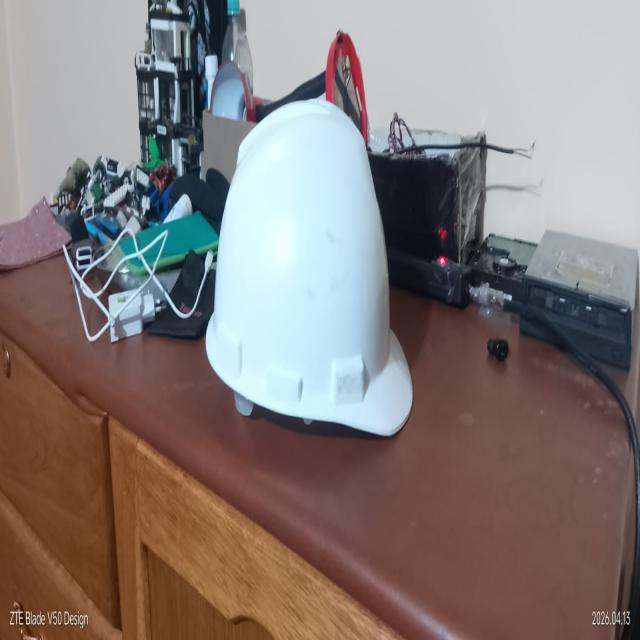casco: (204, 95, 416, 454)
